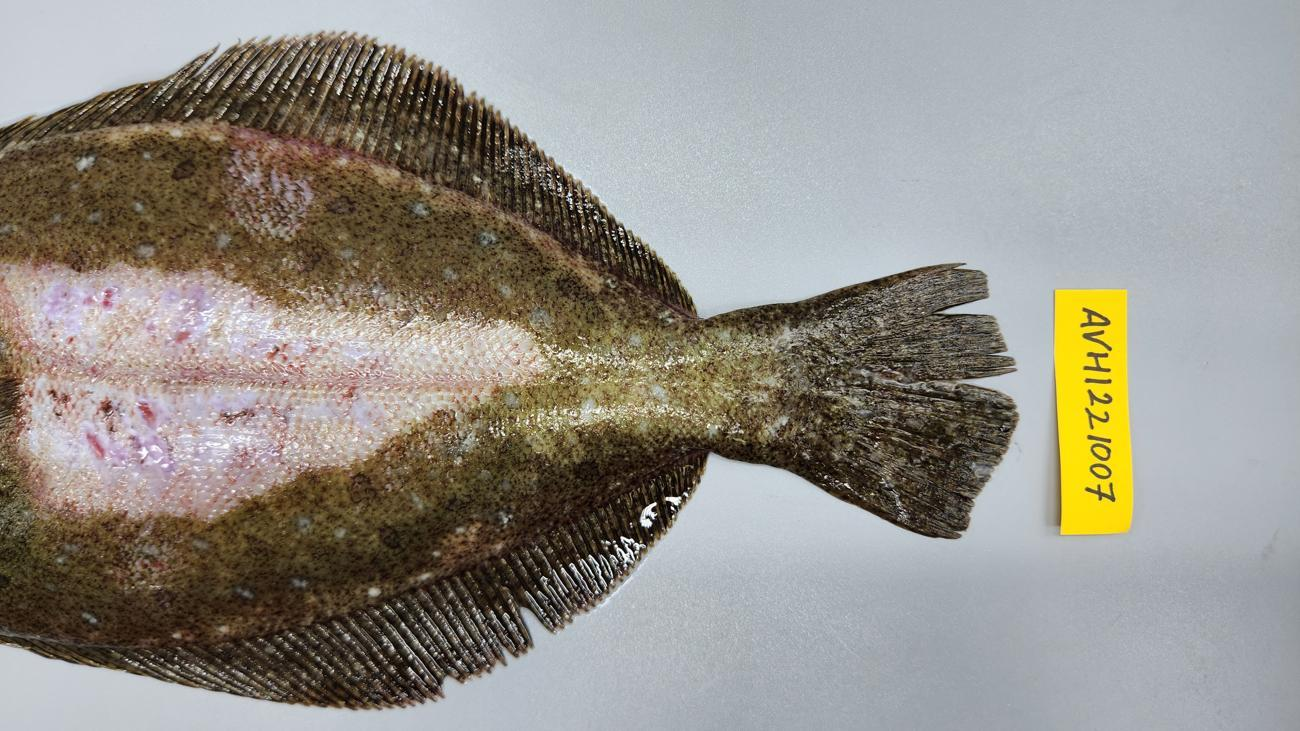VIDYH: (3, 246, 566, 606), (335, 163, 644, 304)
VIDYU: (7, 249, 570, 538), (213, 131, 348, 254), (94, 539, 189, 605)
VIFAH: (237, 602, 443, 710)
VIFCH: (795, 315, 993, 535)
VIFDH: (178, 31, 455, 177)
